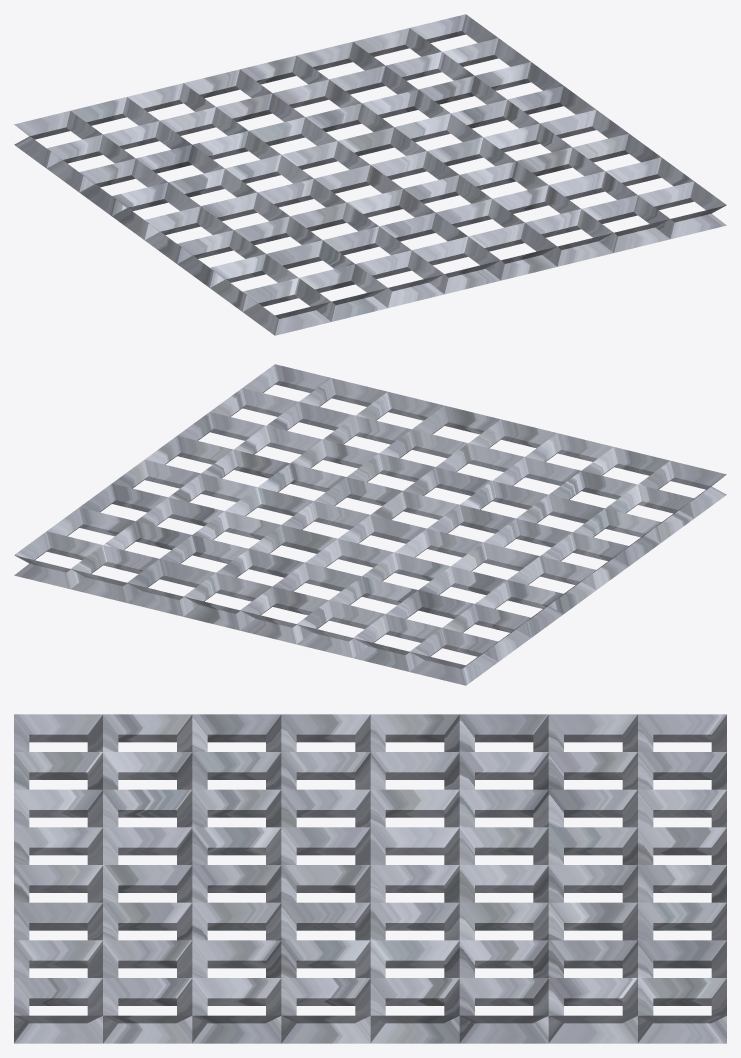
Rendered from MeshFloor.fbx.
3 views of the same model, one above another, from view 1: azimuth 30°, elevation 25°; view 2: azimuth 150°, elevation 25°; view 3: azimuth 270°, elevation 25° (orthographic). The views are drawn at different scales.
Visible parts, largest first — view 1: MeshFlore; view 2: MeshFlore; view 3: MeshFlore.
Part boxes in pixels (box(x1,y1,x2,y2)): MeshFlore: box(14, 14, 726, 335); MeshFlore: box(14, 364, 726, 685); MeshFlore: box(14, 714, 726, 1043).
Bounding box in the file's own units: 100 × 4.3 × 100.
